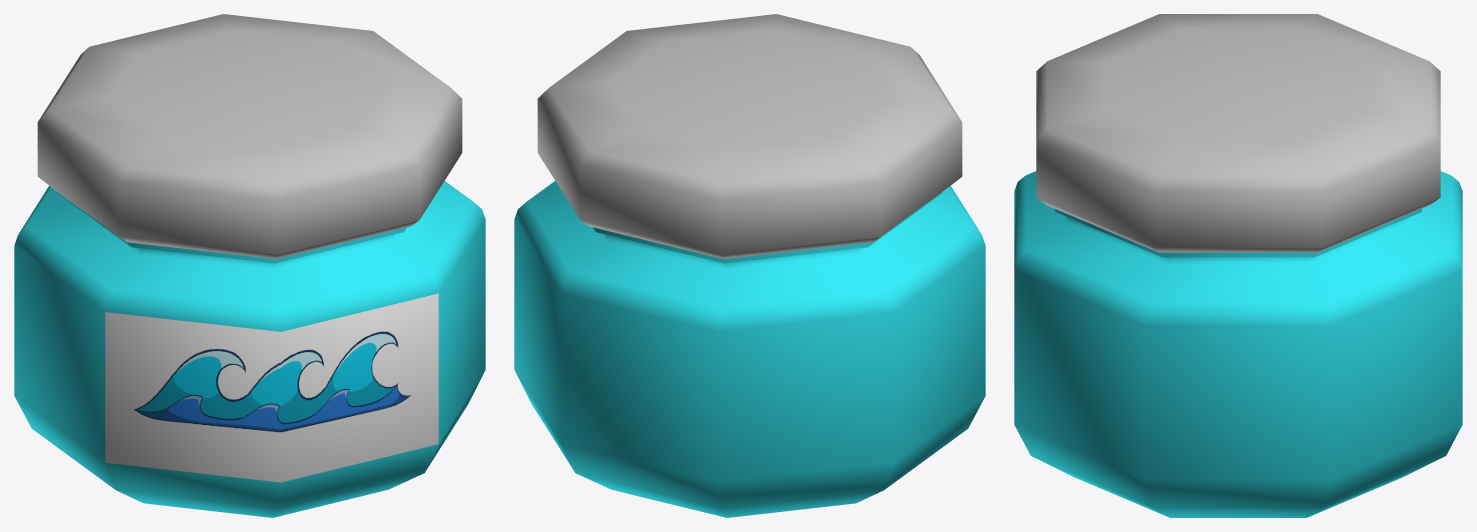
Rendered from Frasco cosmetico.fbx.
3 views of the same model, side by side, from view 1: azimuth 30°, elevation 25°; view 2: azimuth 150°, elevation 25°; view 3: azimuth 270°, elevation 25° (orthographic). The views are drawn at different scales.
Visible parts, largest first — view 1: tarro de cosmeticos; view 2: tarro de cosmeticos; view 3: tarro de cosmeticos.
Part boxes in pixels (bbox=[...]): tarro de cosmeticos: bbox=[14, 14, 485, 517]; tarro de cosmeticos: bbox=[514, 14, 985, 517]; tarro de cosmeticos: bbox=[1014, 14, 1462, 517].
Bounding box in the file's own units: 16.51 × 15.53 × 16.51.
Materials: 3 (1 with a texture image).
